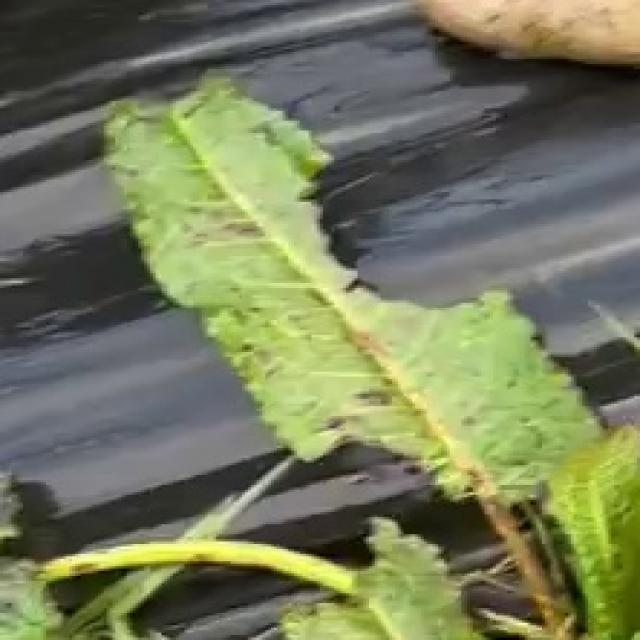organic waste: (86, 74, 640, 568)
